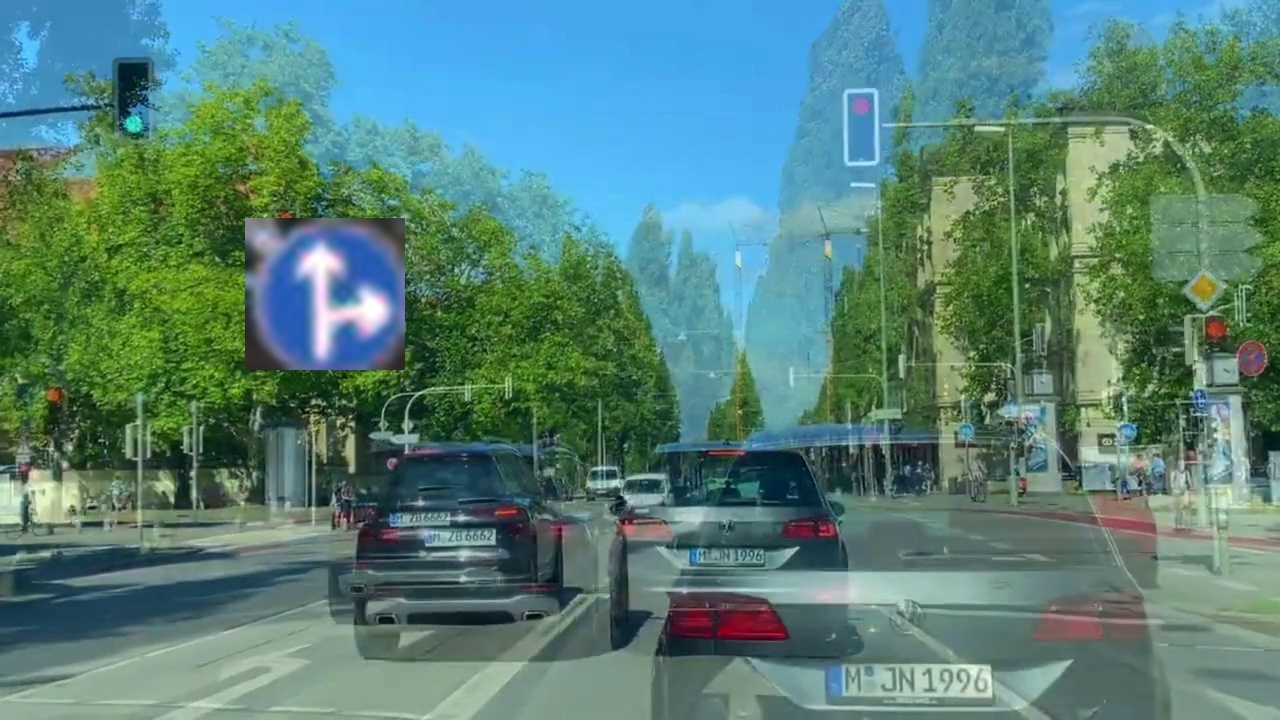Straight/right: (245, 218, 405, 370)
